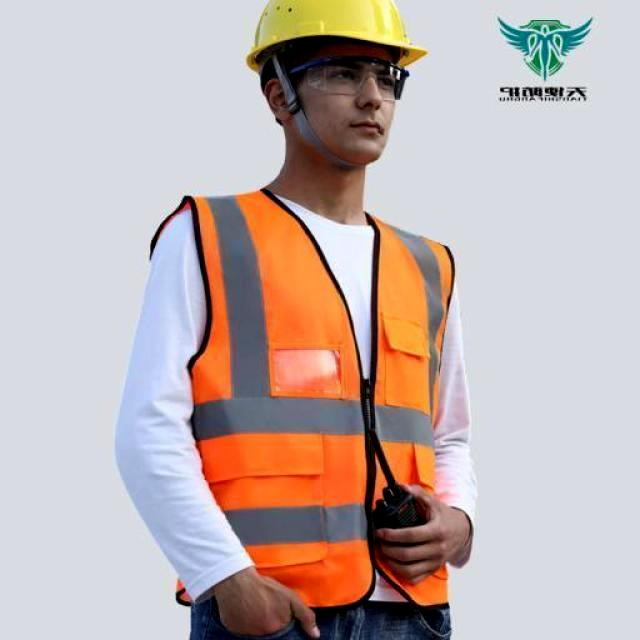hard_hat: (245, 0, 428, 71)
person: (118, 0, 475, 639)
